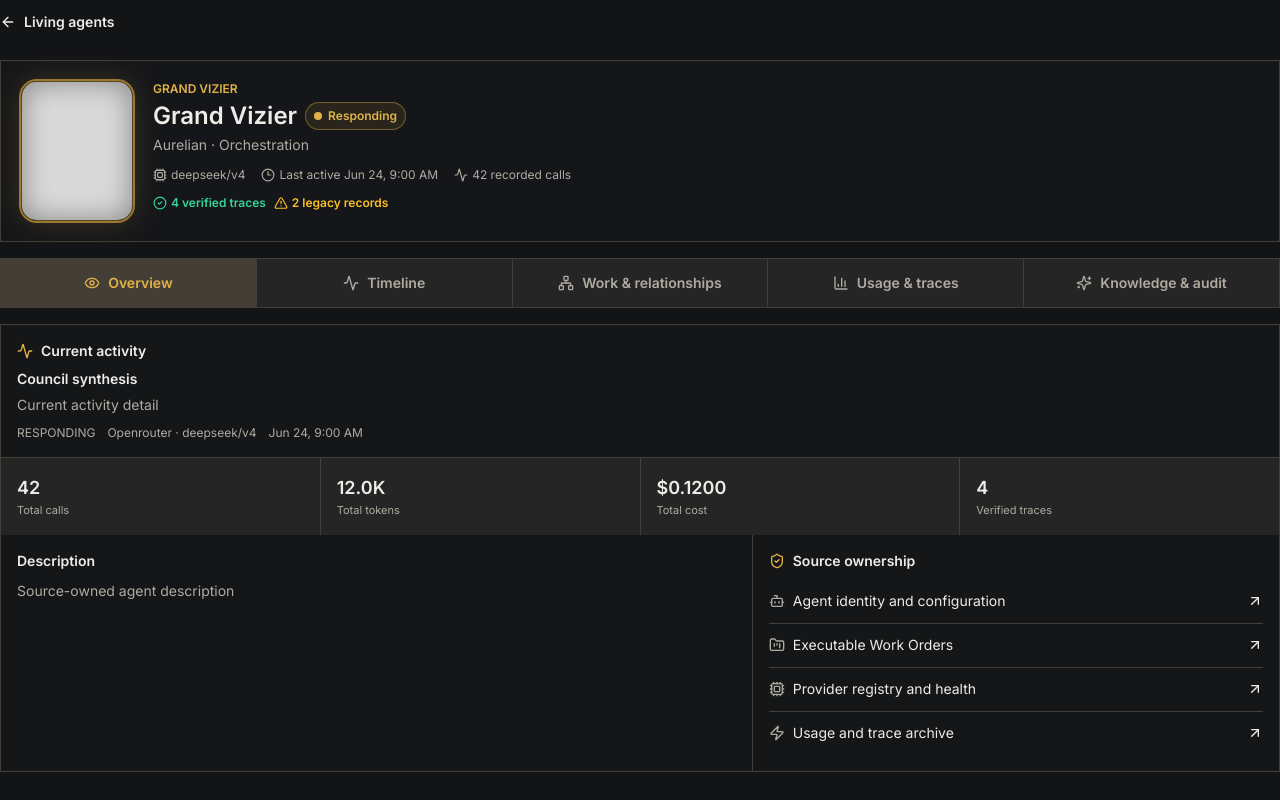
Test: LivingAgentProfilePage evidence workspace › keeps partial knowledge evidence visible and offers a retry
Expected: the heading "Grand Vizier" is shown, x1=153 y1=101 x2=297 y2=131
Click the button "Knowledge & audit".
click(1152, 283)  # box x1=1024 y1=259 x2=1279 y2=307
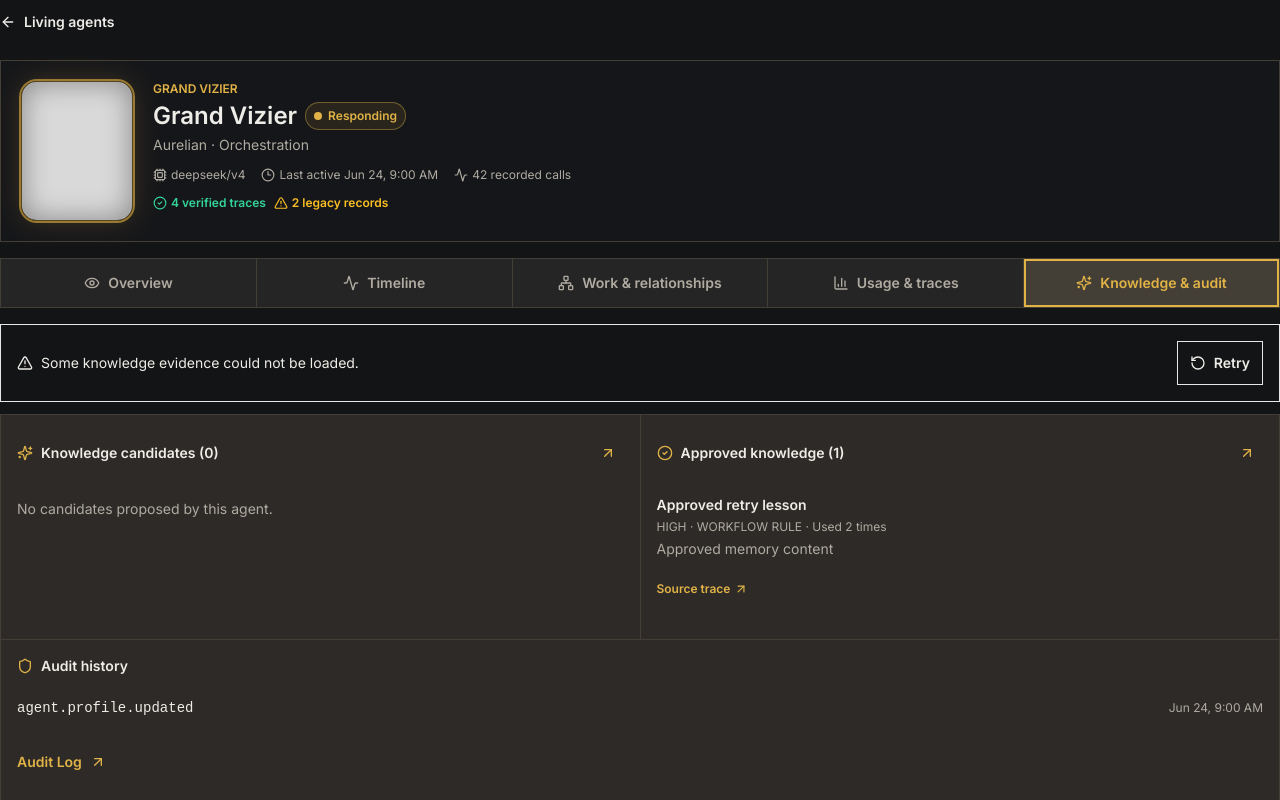
Expected: the message shows "Some knowledge evidence could not be loaded.", x1=41 y1=354 x2=359 y2=371
Expected: the heading "Approved retry lesson" is shown, x1=656 y1=496 x2=807 y2=513
Click the button "Retry".
click(1220, 363)  # box x1=1177 y1=341 x2=1263 y2=385
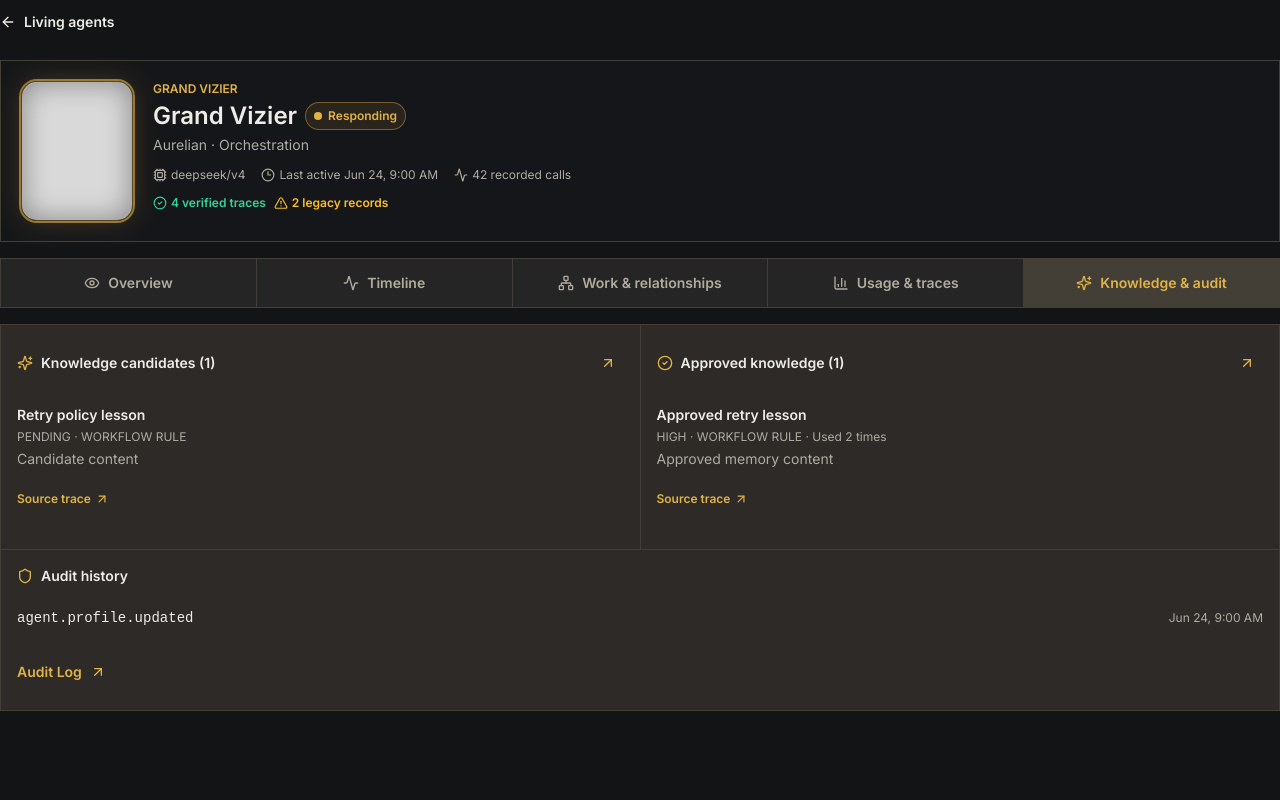
Expected: the heading "Retry policy lesson" is shown, x1=17 y1=406 x2=145 y2=423
